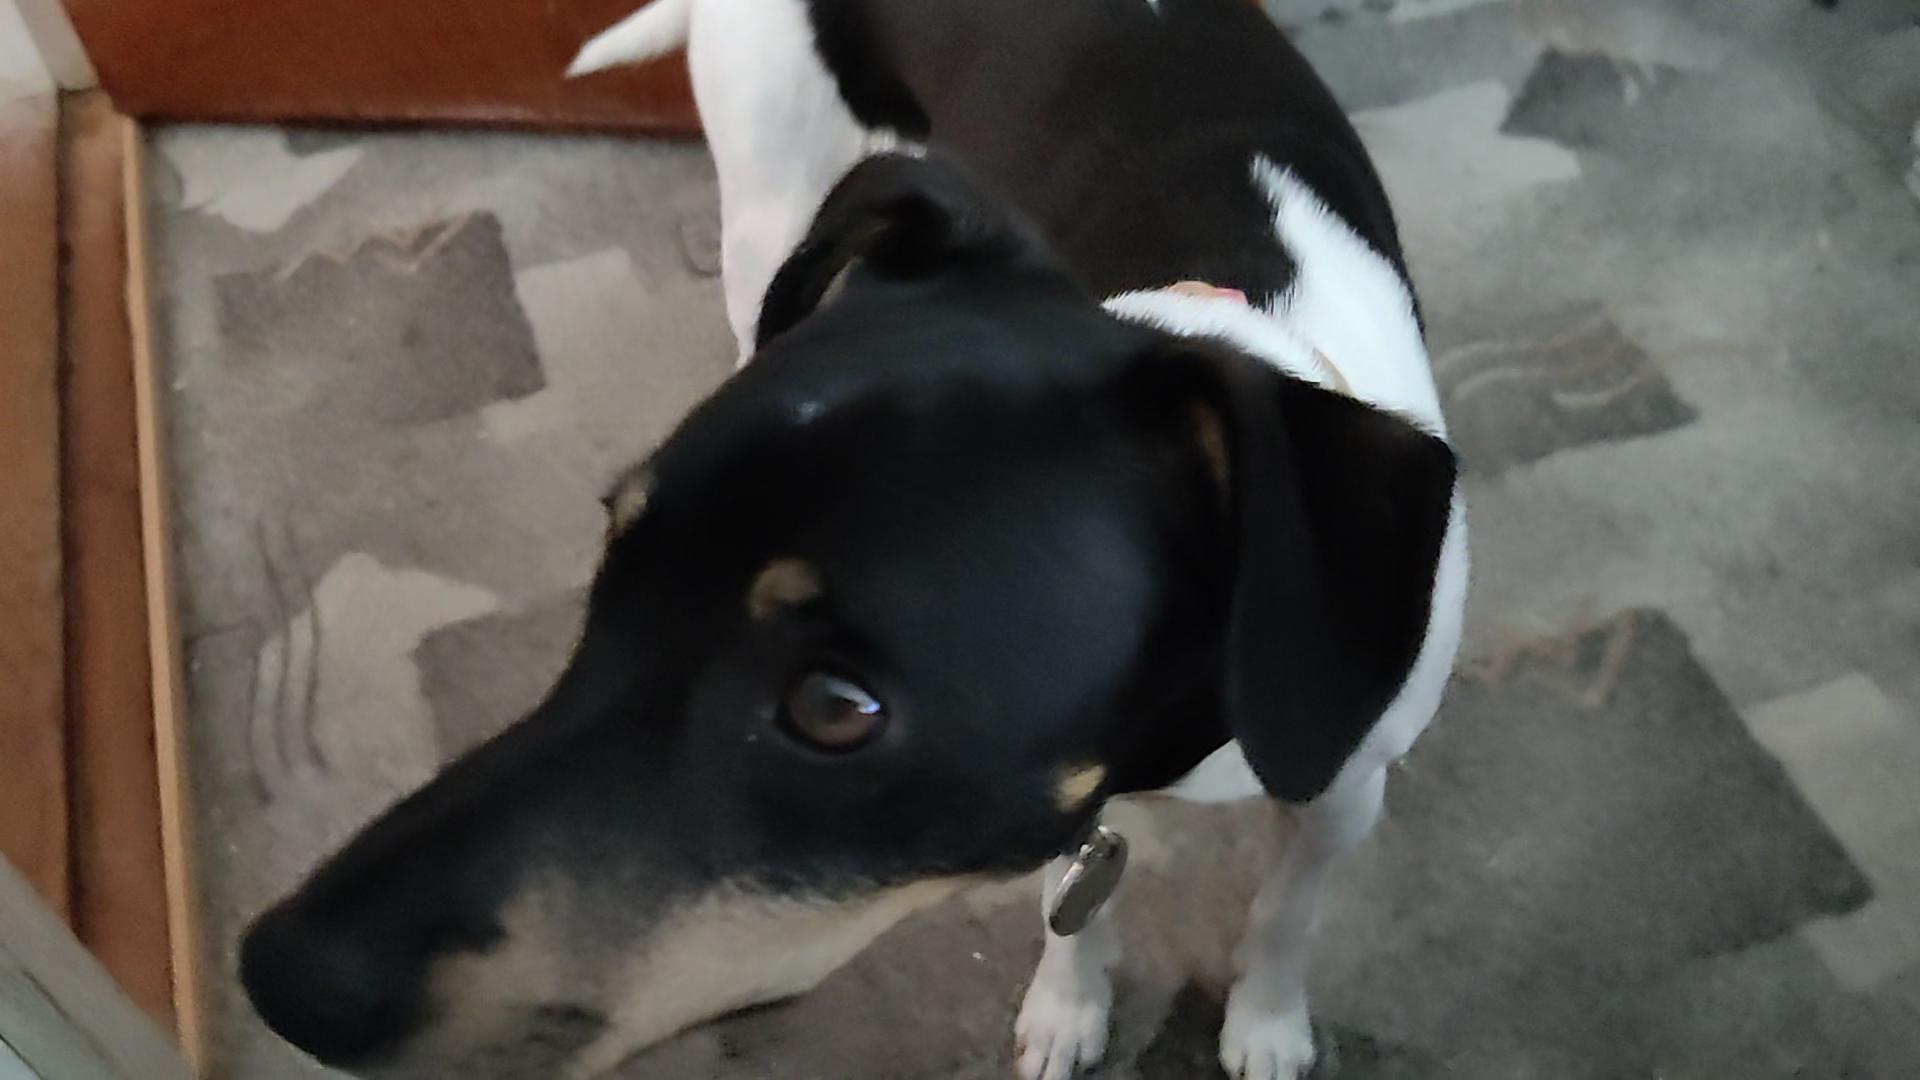Dog: (224, 0, 1484, 1079)
